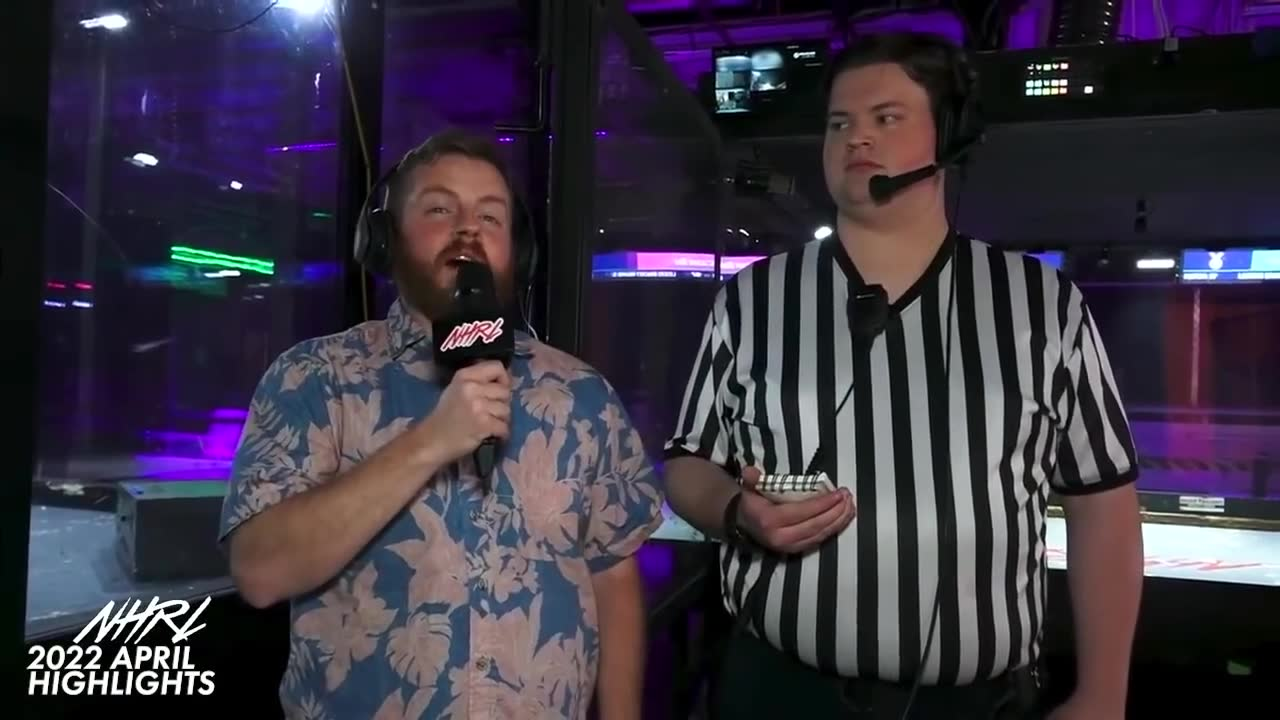housebot: (114, 477, 233, 588)
